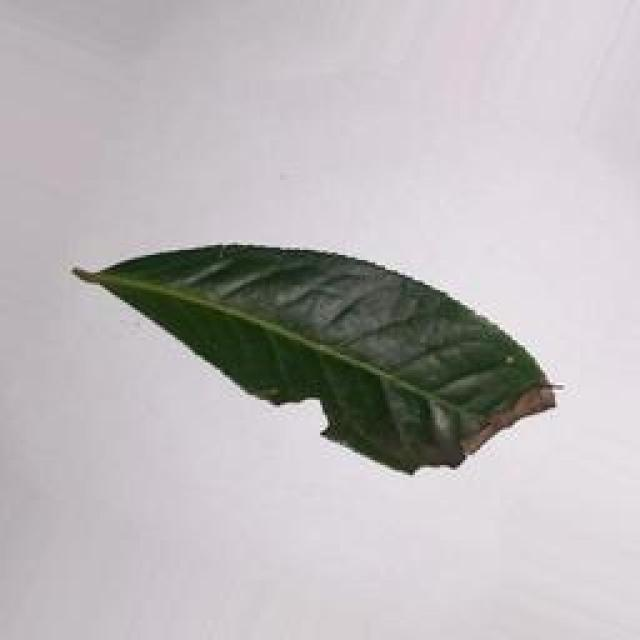Brown Blight: (70, 227, 566, 482)
